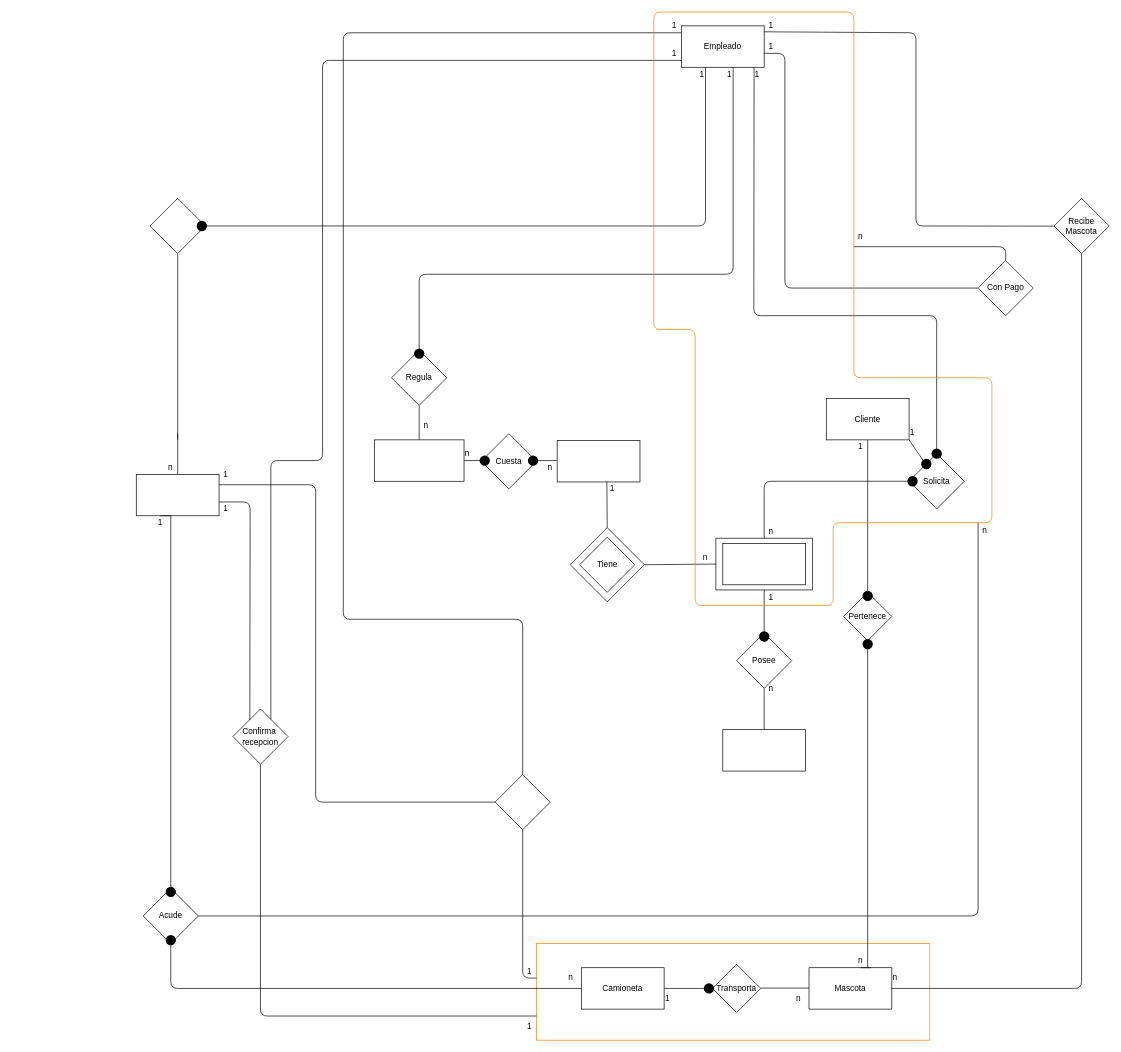
This 1121x1052 diagram has some shape labels left out. The shapes that lost their labels are listed below. From the top down, each one's centre as x and y in pixels, then its label:
At point 177,226: "Controla".
At point 419,460: "Precio".
At point 598,461: "TipoHabitacion".
At point 177,495: "HorarioHotel".
At point 764,564: "Habitacion".
At point 764,750: "Foto".
At point 522,802: "Confirma Salida".
